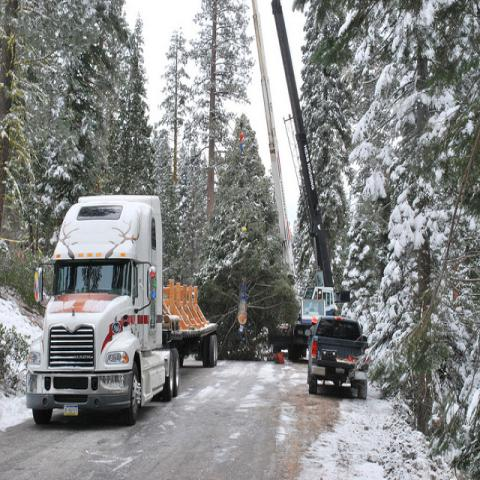car: (308, 316, 369, 380)
truck: (26, 194, 219, 427), (307, 316, 369, 401)
